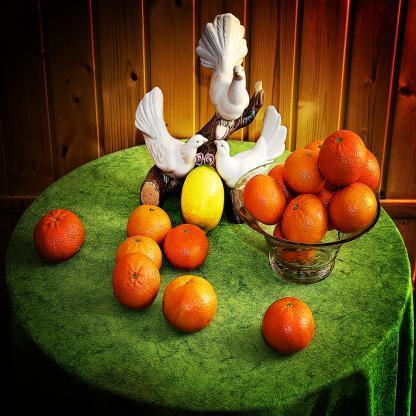lemon: (181, 166, 224, 234)
